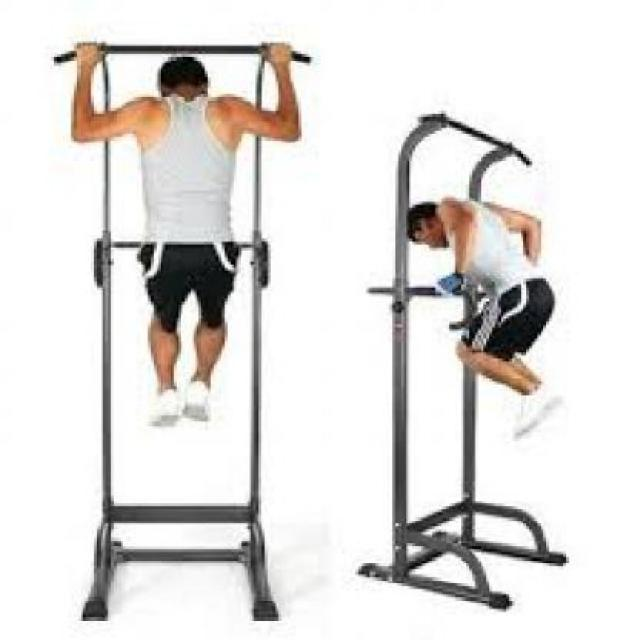chinning dipping: (52, 39, 314, 623), (354, 112, 569, 612)
